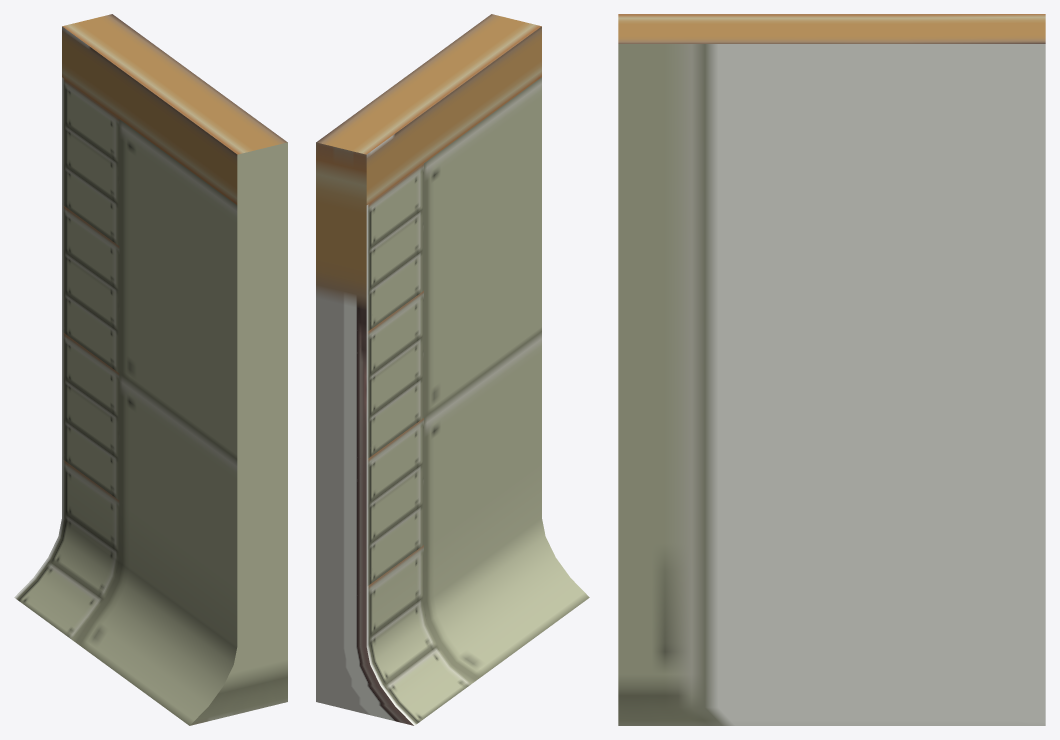
File: SM_Wallx125.fbx
3 views of the same model, side by side, from view 1: azimuth 30°, elevation 25°; view 2: azimuth 150°, elevation 25°; view 3: azimuth 270°, elevation 25° (orthographic). The views are drawn at different scales.
Visible parts, largest first — view 1: pCube10; view 2: pCube10; view 3: pCube10.
Boxes of the visible parts, box(x1,y1,x2,y2) form: pCube10: box(14, 14, 287, 725); pCube10: box(316, 14, 589, 725); pCube10: box(618, 14, 1045, 725).
Bounding box in the file's own units: 40.43 × 220 × 125.
